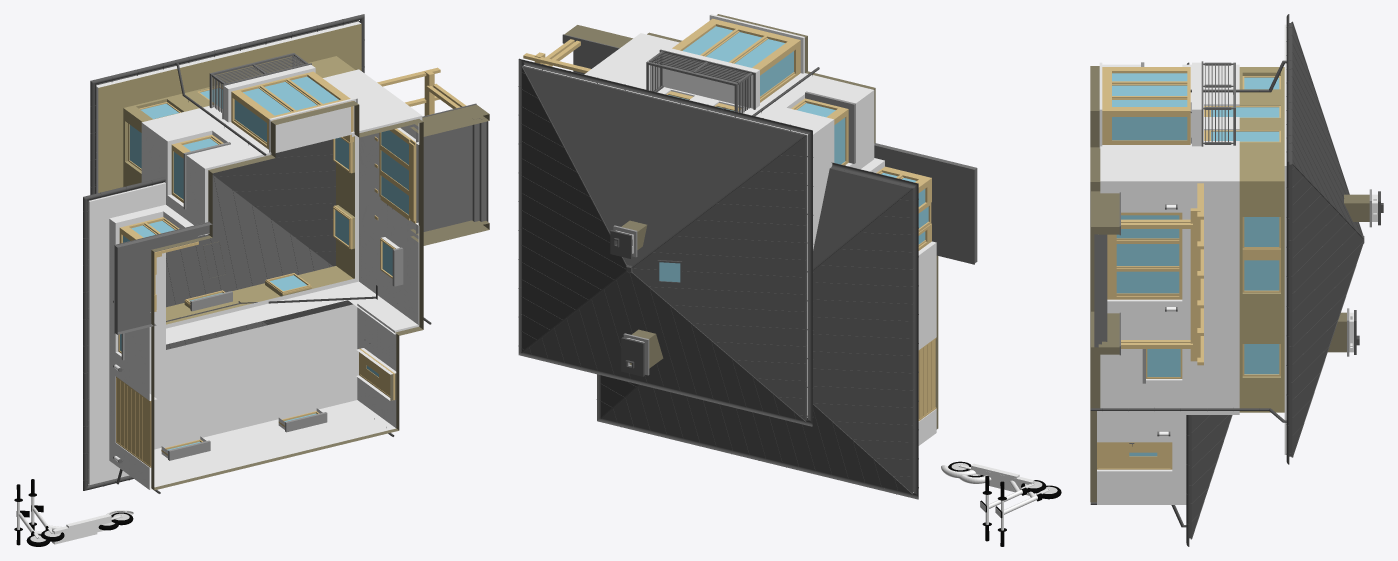
The model's file is patinete_ruedas.fbx.
The picture shows the model from 3 angles, left to right: view 1: azimuth 30°, elevation 25°; view 2: azimuth 150°, elevation 25°; view 3: azimuth 270°, elevation 25°; orthographic projection. The views are drawn at different scales.
Parts seen in each view (by area): view 1: barrels, guarda-barros, patin; view 2: barrels, patin, guarda-barros; view 3: barrels.
Boxes of the visible parts, x1,y1,x2,y2 form: barrels: (83, 14, 489, 493); guarda-barros: (28, 479, 133, 539); patin: (14, 484, 118, 546); barrels: (518, 14, 977, 499); patin: (959, 471, 1061, 546); guarda-barros: (941, 463, 1034, 541); barrels: (1090, 14, 1383, 546).
Bounding box in the file's own units: 1775 × 1478 × 900.
